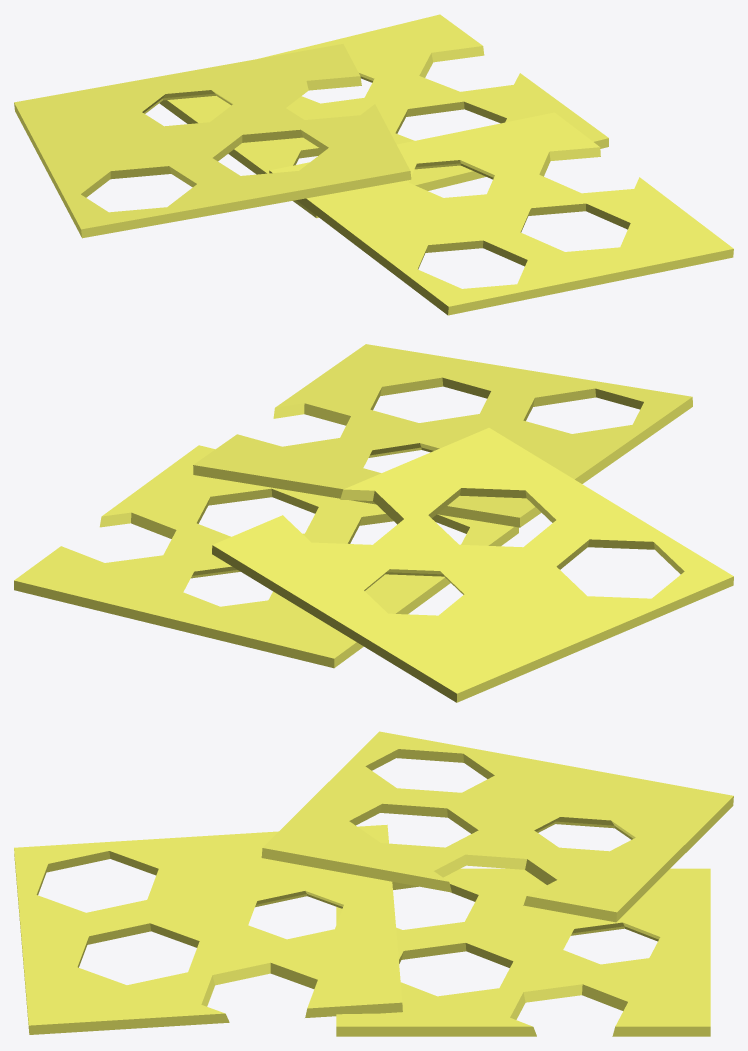
File: CheeseSliced.fbx
The picture shows the model from 3 angles, top to bottom: view 1: azimuth 30°, elevation 25°; view 2: azimuth 150°, elevation 25°; view 3: azimuth 270°, elevation 25°; orthographic projection. The views are drawn at different scales.
Parts seen in each view (by area): view 1: CheeseChopped; view 2: CheeseChopped; view 3: CheeseChopped.
Boxes of the visible parts, <box> form: CheeseChopped: <box>14,14,733,315</box>; CheeseChopped: <box>14,344,733,702</box>; CheeseChopped: <box>14,731,733,1036</box>.
Size of the model in its own units: 27.66 by 24.99 by 2.95.
